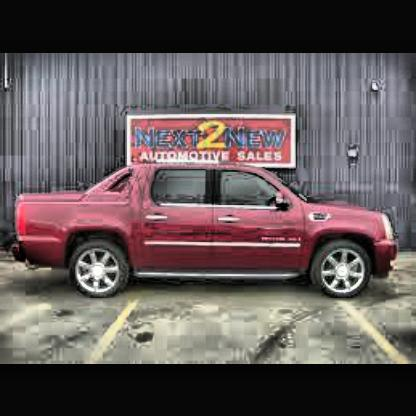Cadillac Escalade EXT Crew Cab 2007: (3, 135, 415, 329)
